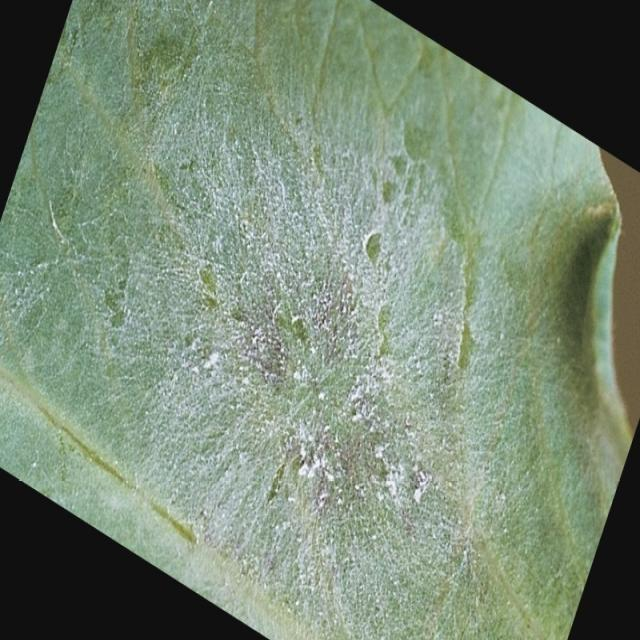Powdery Mildew: (2, 0, 632, 638)
